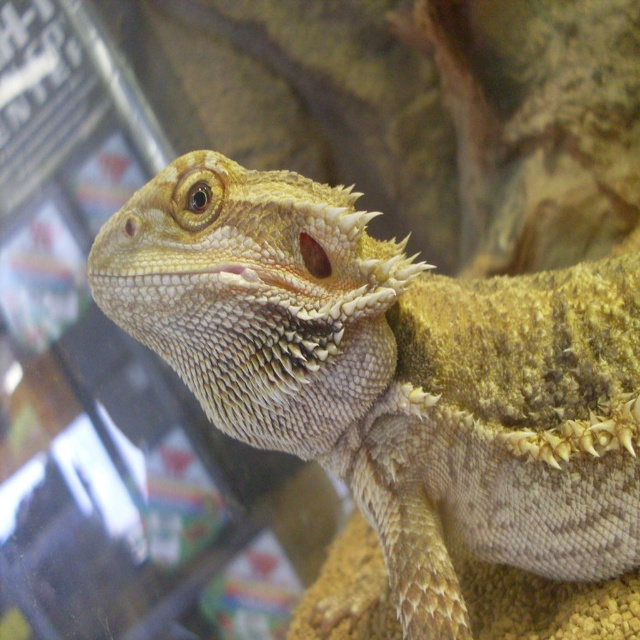Lizard: (86, 147, 640, 638)
